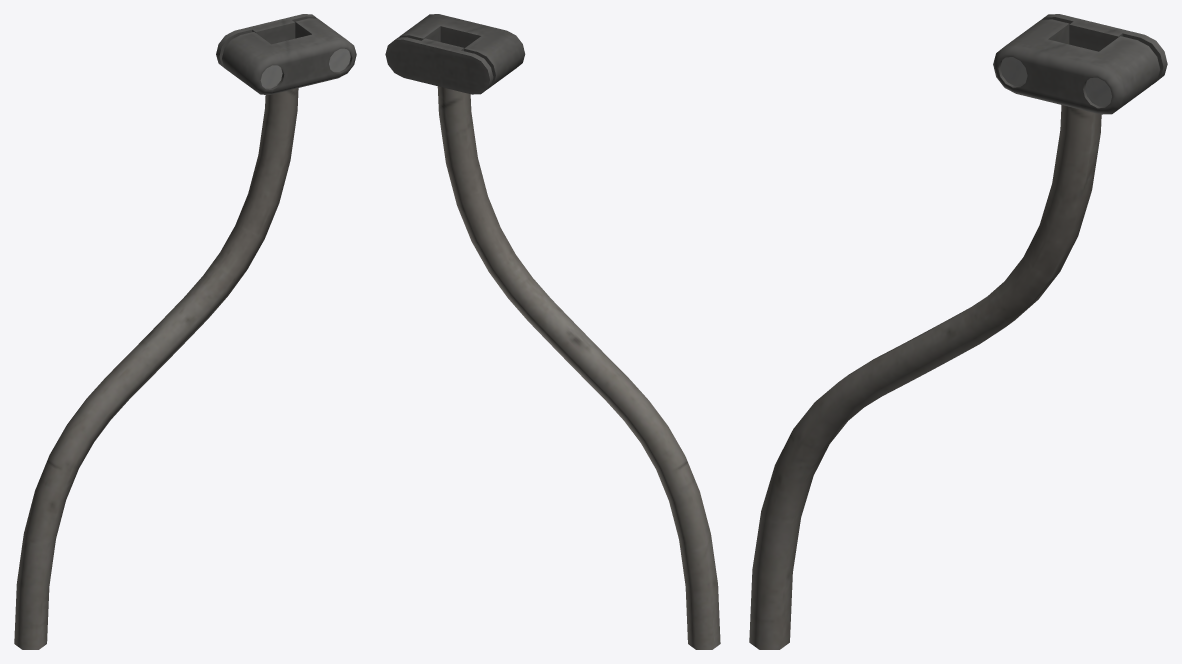
File: cable_cable_scurve_2.fbx
3 views of the same model, side by side, from view 1: azimuth 30°, elevation 25°; view 2: azimuth 150°, elevation 25°; view 3: azimuth 330°, elevation 25° (orthographic). The views are drawn at different scales.
Visible parts, largest first — view 1: modular_electric_cables__cable_scurve_2; view 2: modular_electric_cables__cable_scurve_2; view 3: modular_electric_cables__cable_scurve_2.
Part boxes in pixels (box(x1,y1,x2,y2)): modular_electric_cables__cable_scurve_2: box(14, 14, 356, 649); modular_electric_cables__cable_scurve_2: box(385, 14, 720, 649); modular_electric_cables__cable_scurve_2: box(749, 14, 1167, 649).
Bounding box in the file's own units: 0.1257 × 0.2073 × 0.0259.
